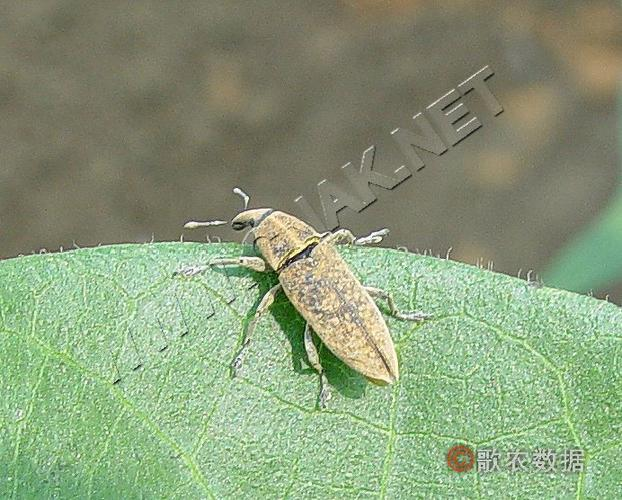Curculionidae: (172, 188, 435, 409)
